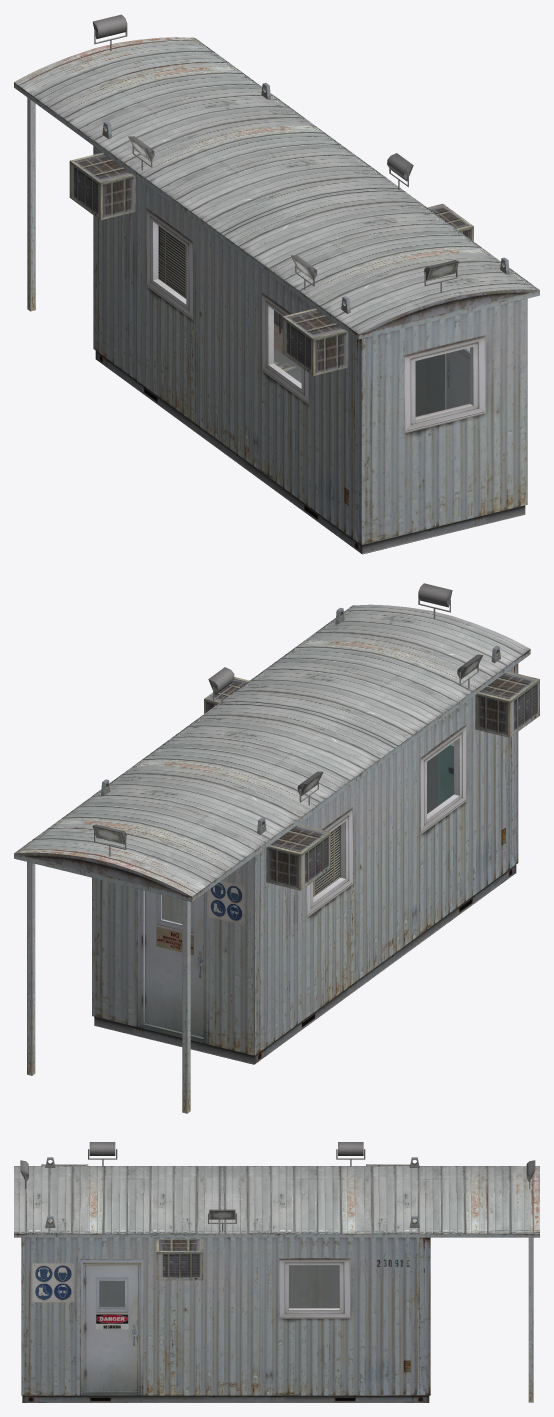
File: SafetyShed.FBX
3 views of the same model, one above another, from view 1: azimuth 30°, elevation 25°; view 2: azimuth 150°, elevation 25°; view 3: azimuth 270°, elevation 25° (orthographic). The views are drawn at different scales.
Parts seen in each view (by area): view 1: DCabin, CDoor1; view 2: DCabin, CDoor2, ElementCabin; view 3: DCabin, CDoor1.
Part boxes in pixels (left/top/right/bottom): DCabin: left=14, top=14, right=539, bottom=554; CDoor1: left=446, top=348, right=469, bottom=409; DCabin: left=14, top=583, right=539, bottom=1113; CDoor2: left=145, top=890, right=203, bottom=1037; ElementCabin: left=438, top=742, right=453, bottom=805; DCabin: left=14, top=1142, right=539, bottom=1402; CDoor1: left=85, top=1265, right=137, bottom=1391.
Bounding box in the file's own units: 27.84 × 30.54 × 70.46.
